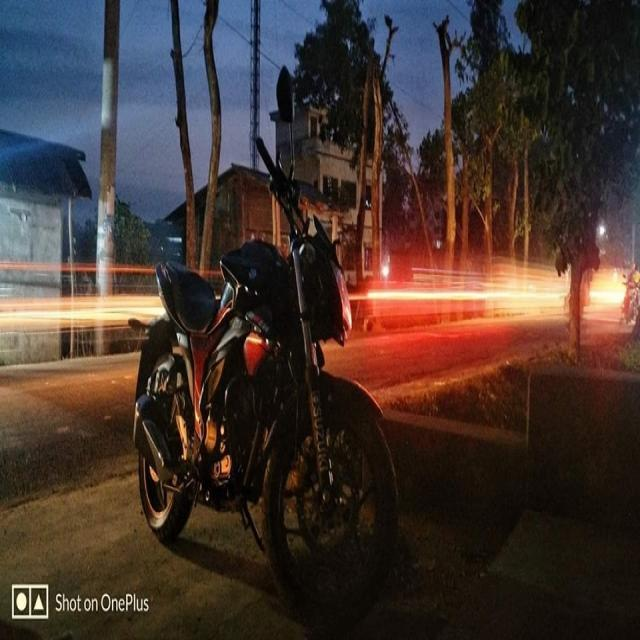Motorbike: (65, 118, 467, 634)
